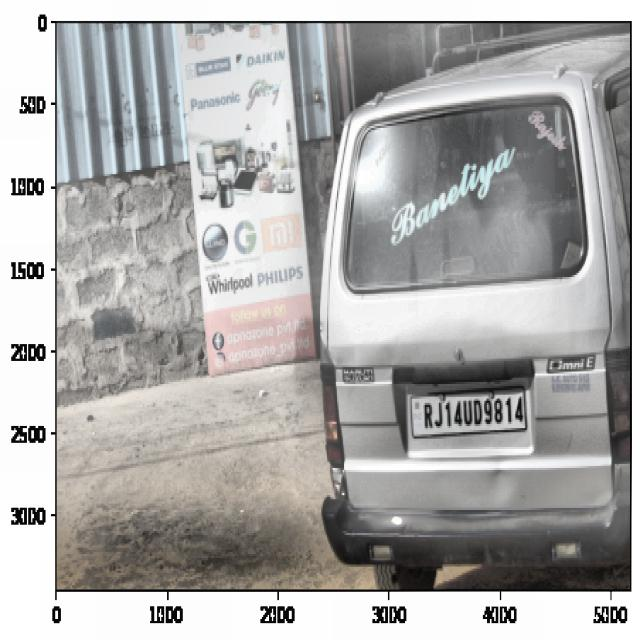license_plate: (417, 391, 530, 434)
